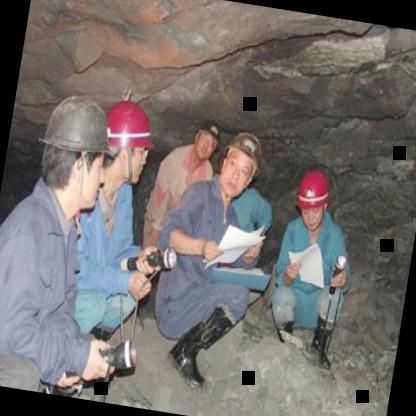helmet: (32, 94, 106, 204), (92, 93, 163, 189), (288, 160, 338, 235), (216, 127, 267, 200), (190, 110, 223, 166)
